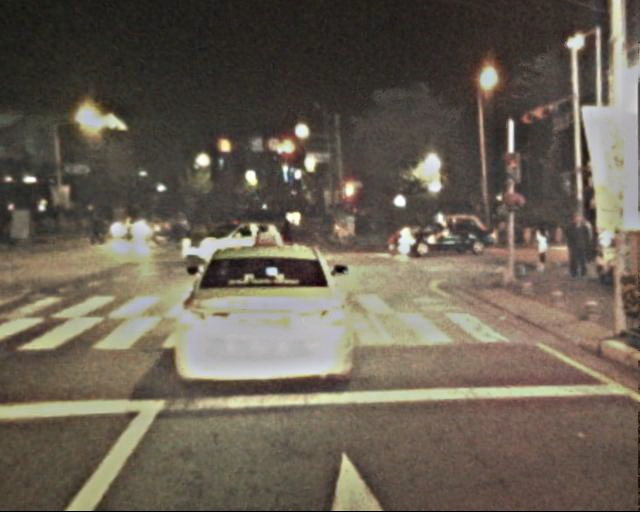person: (562, 208, 592, 282), (170, 210, 211, 243), (533, 224, 552, 271), (91, 208, 108, 246), (277, 209, 293, 249), (491, 216, 506, 245)
